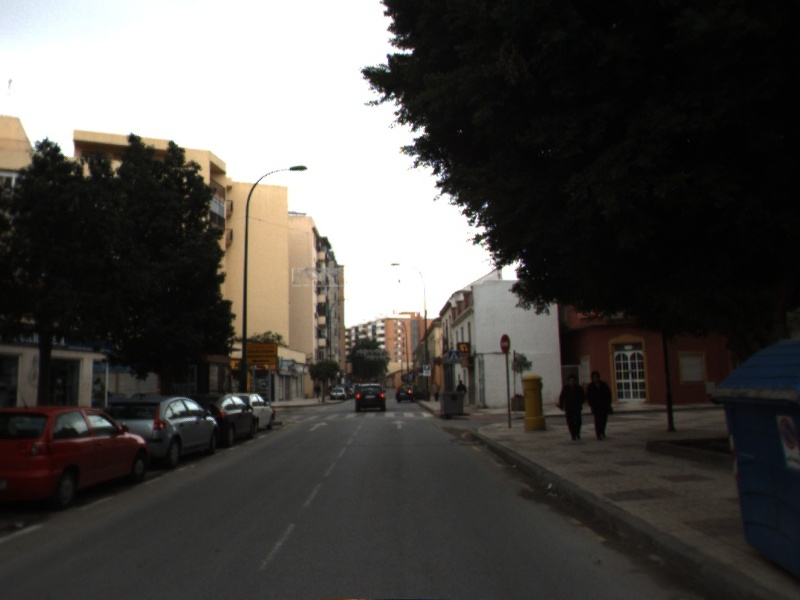STRAIGHT: (306, 420, 330, 433), (390, 418, 410, 431)
